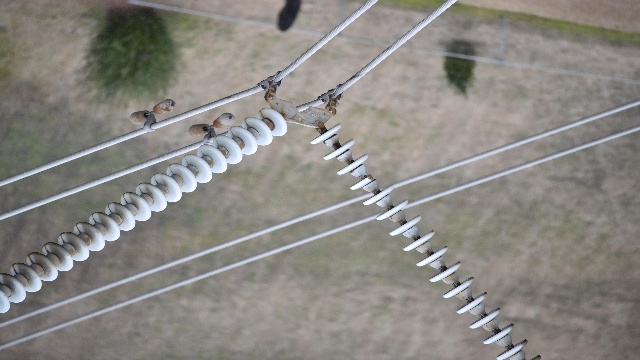broken_local: (360, 170, 378, 182)
insulator_unspecified: (0, 107, 288, 315), (312, 123, 542, 359)
